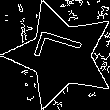L_E: (30, 32, 91, 78)
